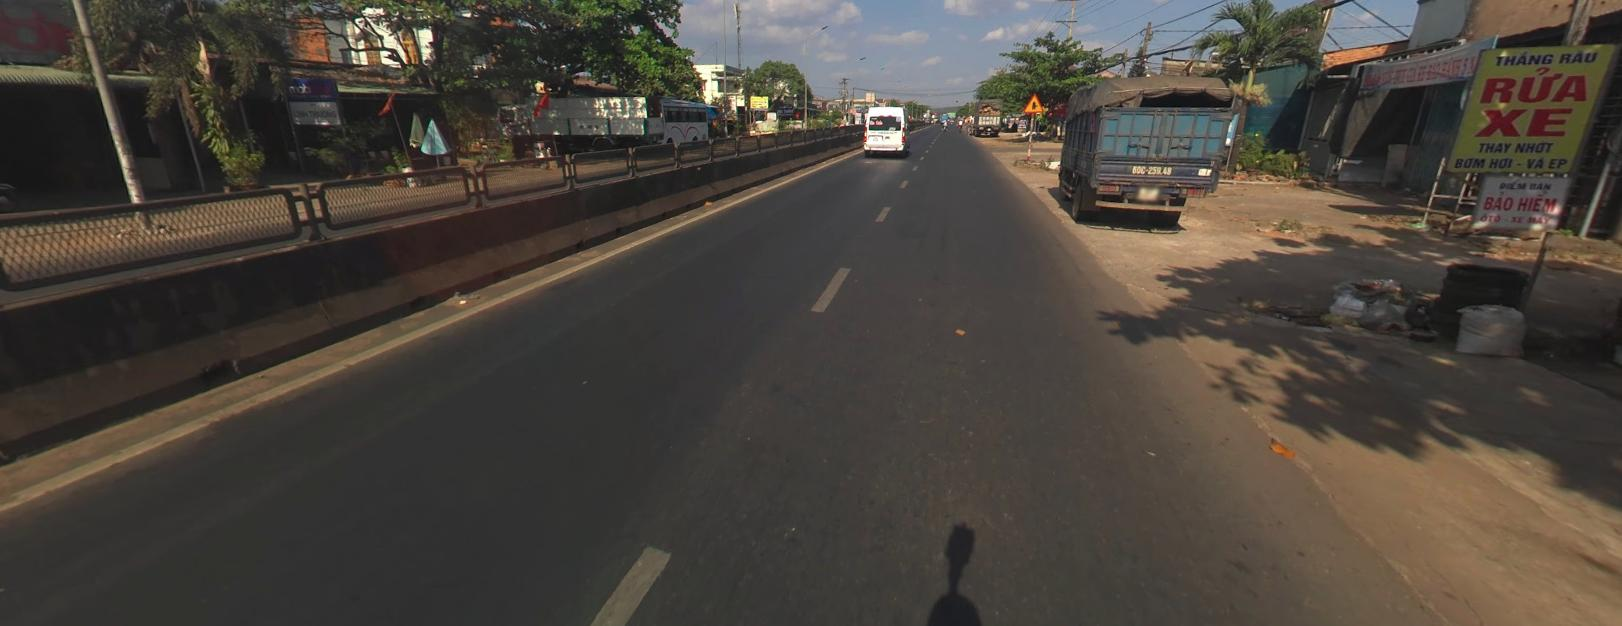Nguy hiem: (1022, 91, 1045, 112)
